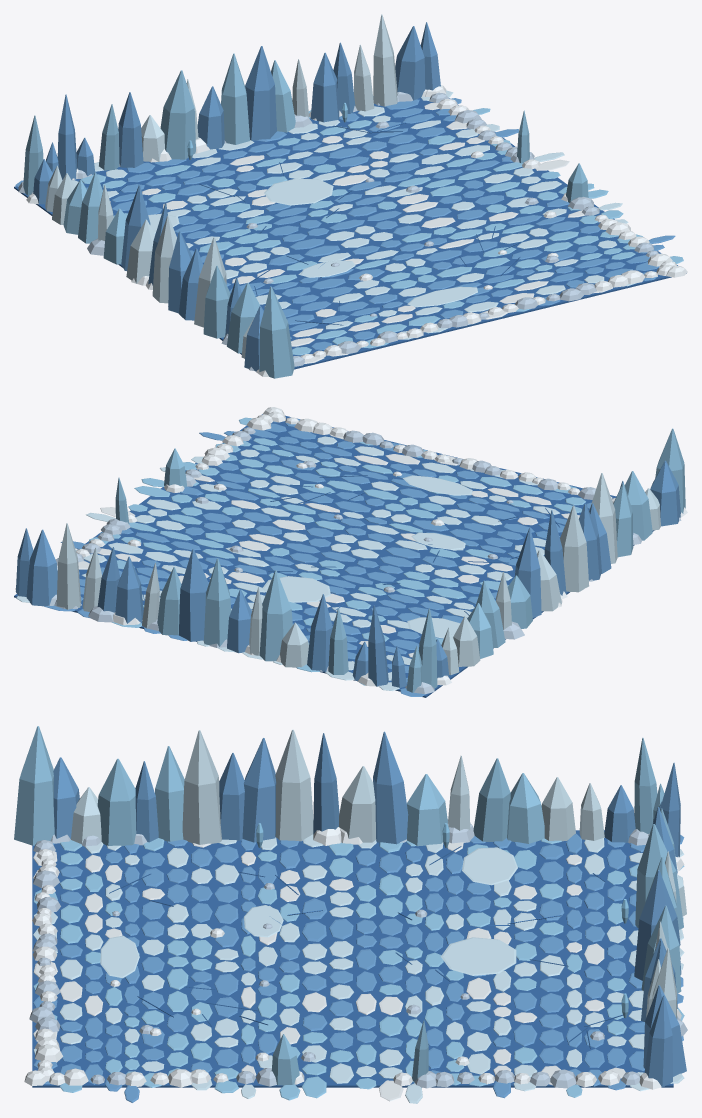
Rendered from stage.glb.
The picture shows the model from 3 angles, top to bottom: view 1: azimuth 30°, elevation 25°; view 2: azimuth 150°, elevation 25°; view 3: azimuth 270°, elevation 25°; orthographic projection. The views are drawn at different scales.
Parts seen in each view (by area): view 1: stage_floor, stage_walls, stage_props; view 2: stage_floor, stage_walls, stage_props; view 3: stage_floor, stage_walls, stage_props.
Boxes of the visible parts, bbox=[...] form: stage_floor: bbox=[14, 90, 686, 369]; stage_walls: bbox=[18, 14, 687, 378]; stage_props: bbox=[187, 103, 588, 316]; stage_floor: bbox=[14, 414, 654, 697]; stage_walls: bbox=[15, 407, 687, 694]; stage_props: bbox=[115, 448, 513, 592]; stage_floor: bbox=[32, 830, 684, 1103]; stage_walls: bbox=[14, 726, 687, 1089]; stage_props: bbox=[110, 823, 628, 1085].
Bounding box in the file's own units: 35.67 × 6.49 × 36.15.
